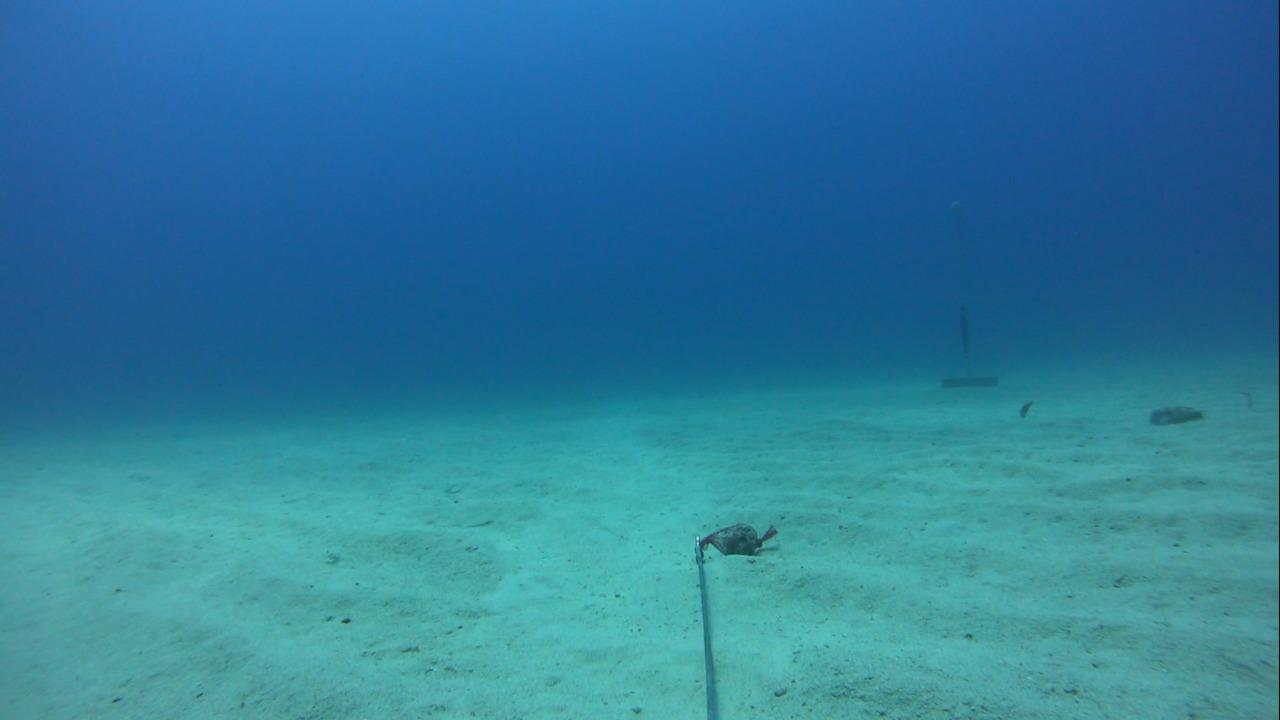raor: (1141, 398, 1210, 430)
